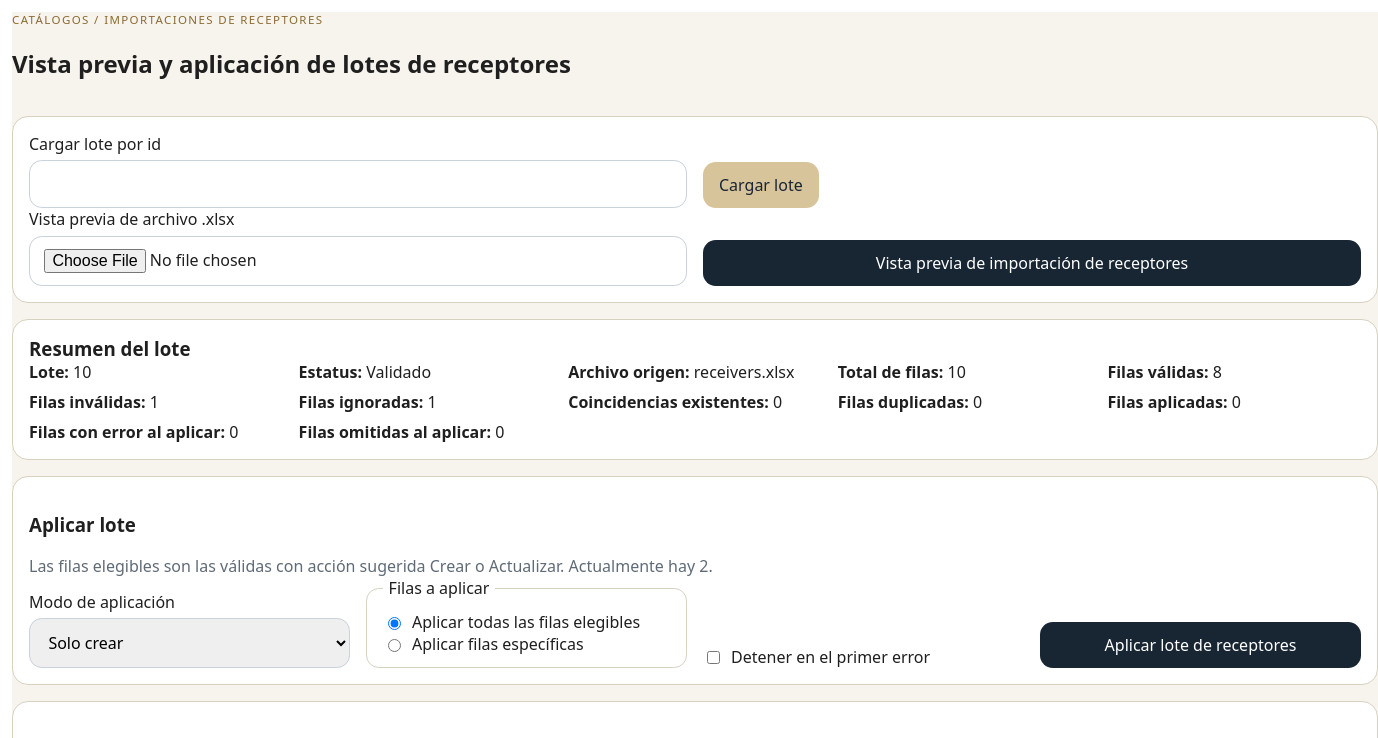
Test: ReceiverImportsPageComponent › renders backend validation detail when apply fails
This screenshot has width=1378, height=738.
Click the button "Aplicar lote de receptores": (1200, 645) [1040,622,1361,668]
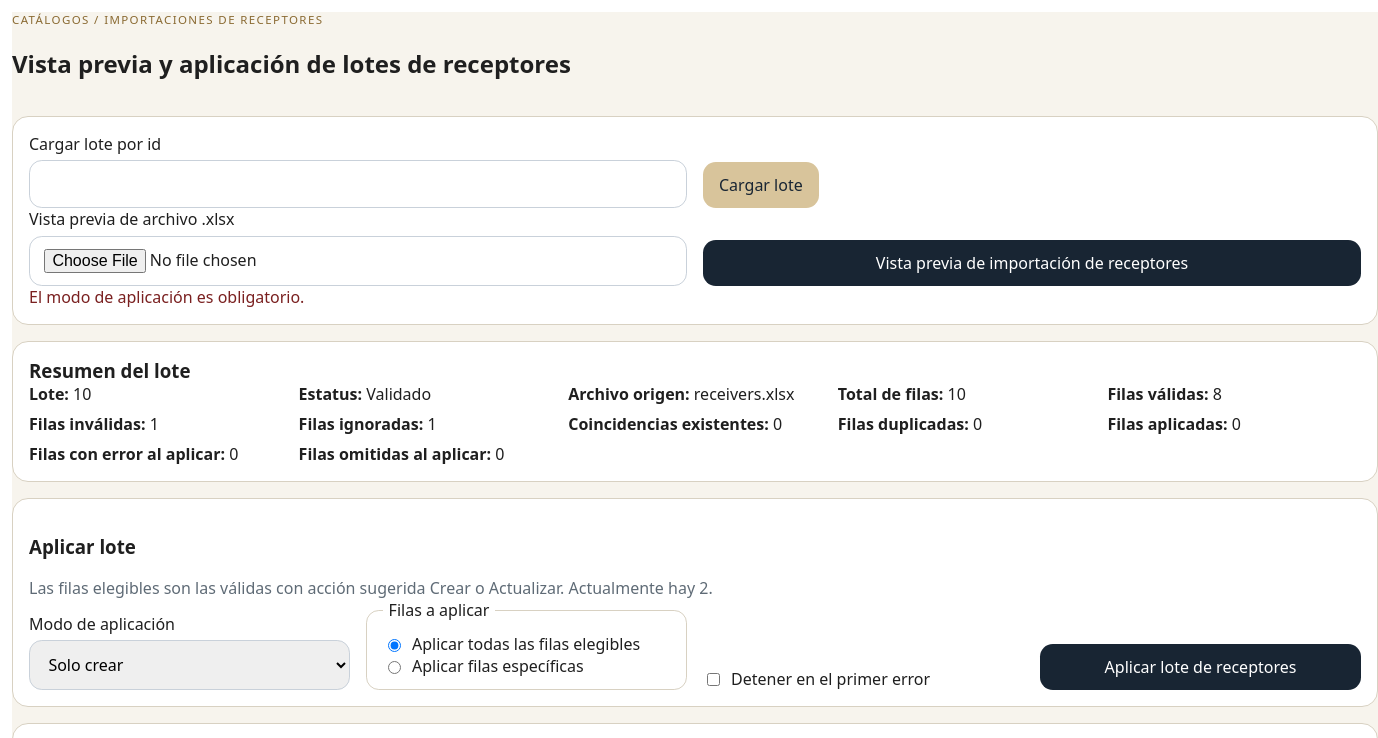
Expected: the text "El modo de aplicación es obligatorio." is shown, [29,286,304,308]
